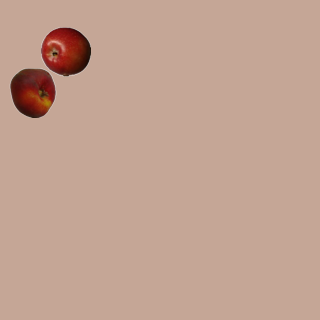Apple Braeburn: (40, 26, 90, 76)
Nectarine Flat: (7, 67, 57, 117)
